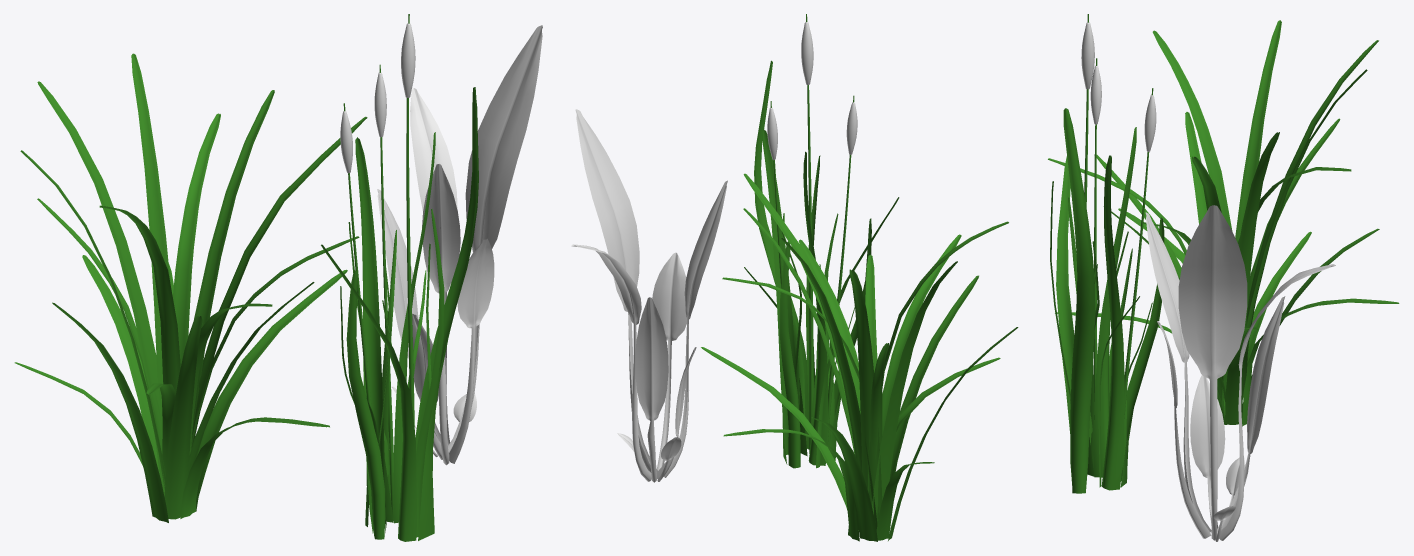
The model's file is plants.glb.
The picture shows the model from 3 angles, left to right: view 1: azimuth 30°, elevation 25°; view 2: azimuth 150°, elevation 25°; view 3: azimuth 270°, elevation 25°; orthographic projection. The views are drawn at different scales.
Parts seen in each view (by area): view 1: plant_1, plant_3, plant_2; view 2: plant_1, plant_2, plant_3; view 3: plant_3, plant_2, plant_1.
Part boxes in pixels (<box>): plant_1: <box>14,53,367,522</box>; plant_3: <box>321,14,478,541</box>; plant_2: <box>377,25,542,465</box>; plant_1: <box>701,173,1018,541</box>; plant_2: <box>571,109,727,482</box>; plant_3: <box>744,14,899,468</box>; plant_3: <box>1050,14,1164,493</box>; plant_2: <box>1145,205,1335,541</box>; plant_1: <box>1048,20,1399,426</box>.
Bounding box in the file's own units: 17.43 × 17.26 × 11.53.
